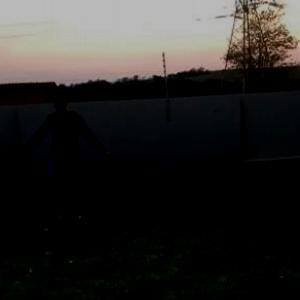land: (19, 103, 108, 226)
